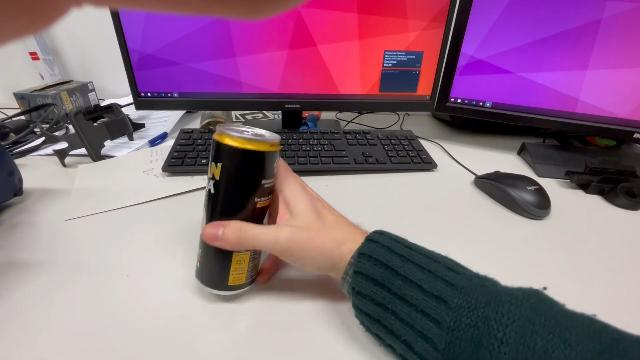OranSoda: (193, 120, 283, 302)
